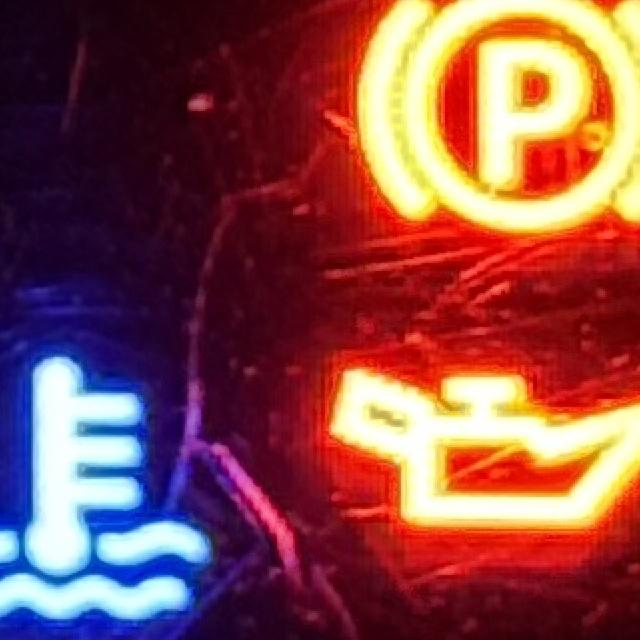High Engine Temperature: (3, 356, 216, 625)
Low Oil Pressure Issue: (327, 367, 640, 529)
Parking Break On: (355, 1, 640, 235)
